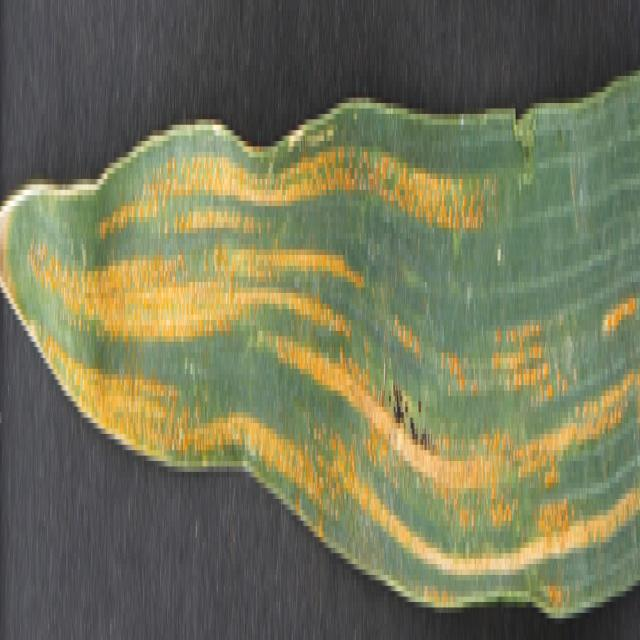leaf rust: (1, 44, 638, 596)
